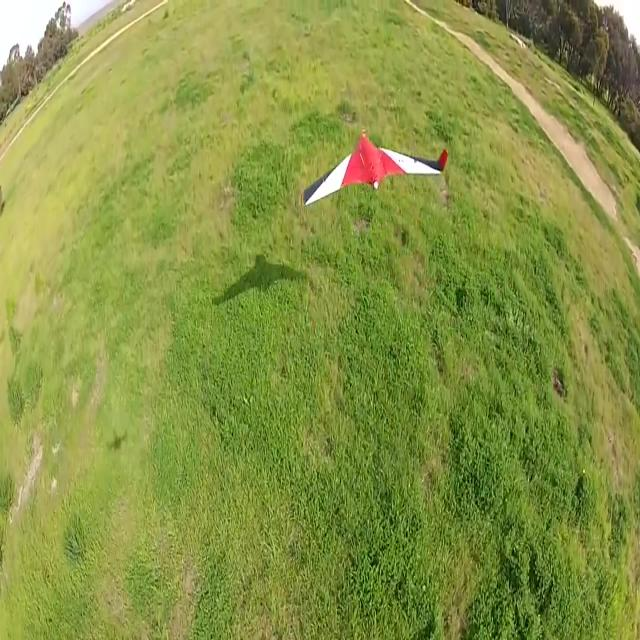iha: (301, 160, 449, 176)
